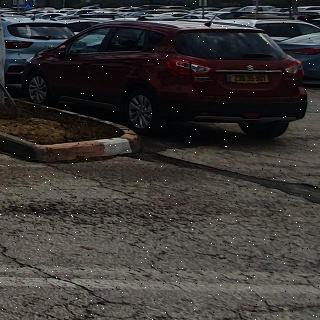LicensePlate: (232, 75, 268, 82)
